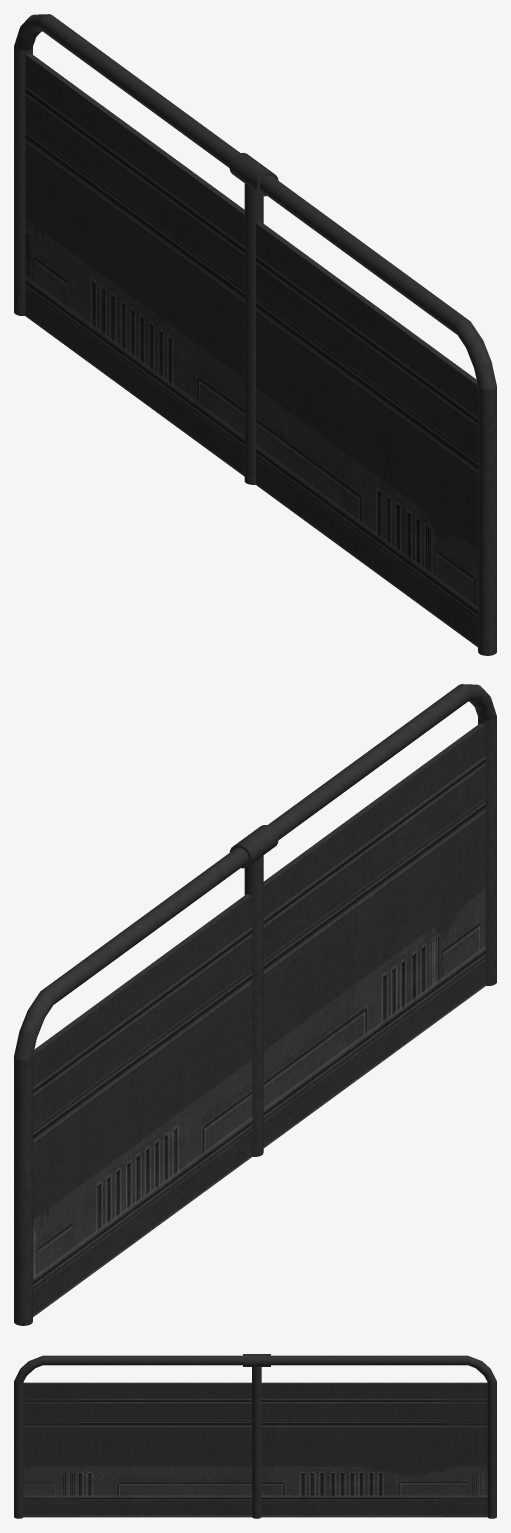
The model's file is Map_Safety_Barrier_Short.fbx.
3 views of the same model, one above another, from view 1: azimuth 30°, elevation 25°; view 2: azimuth 150°, elevation 25°; view 3: azimuth 270°, elevation 25° (orthographic). The views are drawn at different scales.
Parts seen in each view (by area): view 1: Map_Safety_Barrier_Short; view 2: Map_Safety_Barrier_Short; view 3: Map_Safety_Barrier_Short.
Boxes of the visible parts, x1,y1,x2,y2 form: Map_Safety_Barrier_Short: [14, 14, 496, 655]; Map_Safety_Barrier_Short: [14, 684, 496, 1325]; Map_Safety_Barrier_Short: [14, 1354, 496, 1518].
Size of the model in its own units: 9.39 by 130 by 351.
Materials: 1 (1 with a texture image).
